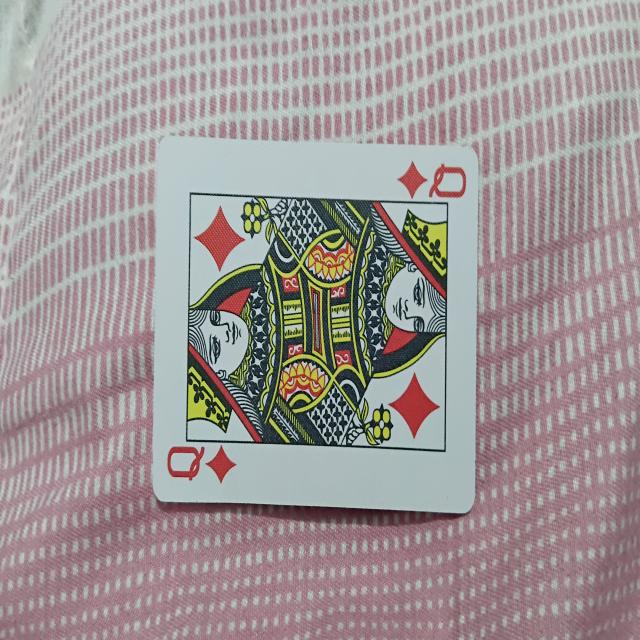QD: (150, 144, 479, 513)
